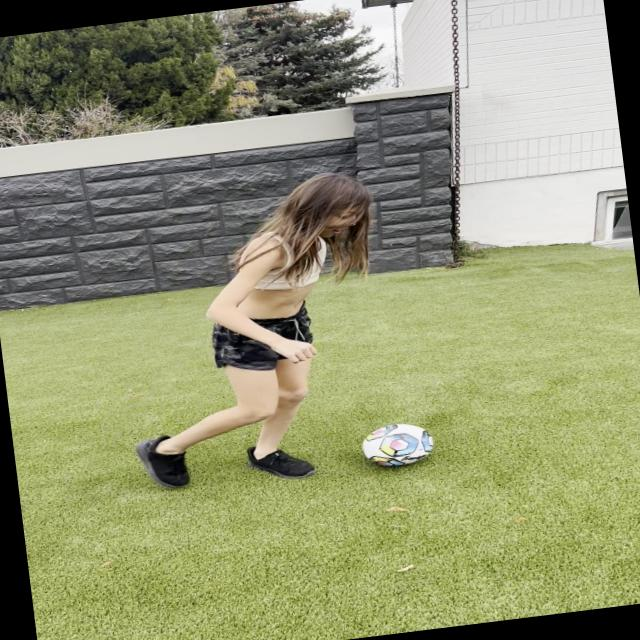Soccer Ball: (359, 420, 436, 470)
